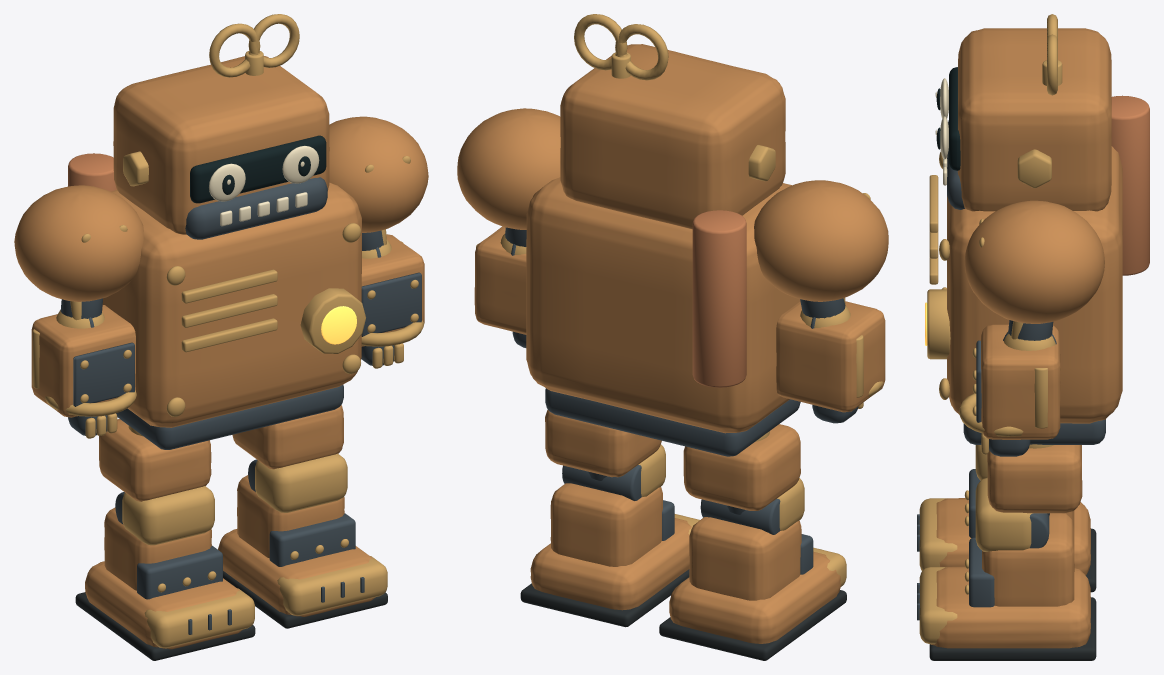
File: scrapyard_bruiser.t1.glb
3 views of the same model, side by side, from view 1: azimuth 30°, elevation 25°; view 2: azimuth 150°, elevation 25°; view 3: azimuth 270°, elevation 25° (orthographic). The views are drawn at different scales.
Parts seen in each view (by area): view 1: slot_torso__clay_ochre_scrap__clay, slot_head__clay_ochre_scrap__clay, slot_legL__clay_ochre_scrap__clay, slot_legR__clay_ochre_scrap__clay, slot_armL__clay_ochre_scrap__clay, slot_armR__clay_ochre_scrap__clay, slot_legL__worn_warm_brass__protected, slot_legR__worn_warm_brass__protected, slot_torso__worn_warm_brass__protected, armL_elbow__clay_ochre_scrap__clay, slot_torso__forged_bluelead_steel__protected, slot_head__forged_bluelead_steel__protected (+18 smaller); view 2: slot_torso__clay_ochre_scrap__clay, slot_head__clay_ochre_scrap__clay, slot_legL__clay_ochre_scrap__clay, slot_legR__clay_ochre_scrap__clay, slot_armL__clay_ochre_scrap__clay, slot_torso__burnished_copper__protected, slot_armR__clay_ochre_scrap__clay, armL_elbow__clay_ochre_scrap__clay, slot_torso__forged_bluelead_steel__protected, armR_elbow__clay_ochre_scrap__clay, slot_head__worn_warm_brass__protected, slot_legL__charcoal_rubber__protected (+6 smaller); view 3: slot_head__clay_ochre_scrap__clay, slot_legR__clay_ochre_scrap__clay, slot_torso__clay_ochre_scrap__clay, slot_armR__clay_ochre_scrap__clay, armR_elbow__clay_ochre_scrap__clay, slot_torso__burnished_copper__protected, slot_legR__worn_warm_brass__protected, slot_torso__worn_warm_brass__protected, slot_legL__clay_ochre_scrap__clay, slot_legR__charcoal_rubber__protected, slot_head__worn_warm_brass__protected, slot_legR__forged_bluelead_steel__protected (+12 smaller).
Boxes of the visible parts, x1=… form: slot_torso__clay_ochre_scrap__clay: x1=102, y1=182, x2=361, y2=427; slot_head__clay_ochre_scrap__clay: x1=113, y1=56, x2=329, y2=234; slot_legL__clay_ochre_scrap__clay: x1=85, y1=419, x2=242, y2=649; slot_legR__clay_ochre_scrap__clay: x1=218, y1=405, x2=375, y2=616; slot_armL__clay_ochre_scrap__clay: x1=14, y1=185, x2=143, y2=301; slot_armR__clay_ochre_scrap__clay: x1=329, y1=116, x2=428, y2=232; slot_legL__worn_warm_brass__protected: x1=122, y1=426, x2=254, y2=648; slot_legR__worn_warm_brass__protected: x1=255, y1=453, x2=387, y2=615; slot_torso__worn_warm_brass__protected: x1=166, y1=223, x2=365, y2=416; armL_elbow__clay_ochre_scrap__clay: x1=31, y1=305, x2=135, y2=417; slot_torso__forged_bluelead_steel__protected: x1=116, y1=385, x2=343, y2=449; slot_head__forged_bluelead_steel__protected: x1=185, y1=177, x2=327, y2=239; slot_torso__clay_ochre_scrap__clay: x1=526, y1=177, x2=800, y2=433; slot_head__clay_ochre_scrap__clay: x1=560, y1=44, x2=785, y2=229; slot_legL__clay_ochre_scrap__clay: x1=669, y1=424, x2=841, y2=643; slot_legR__clay_ochre_scrap__clay: x1=530, y1=410, x2=691, y2=610; slot_armL__clay_ochre_scrap__clay: x1=754, y1=180, x2=888, y2=301; slot_torso__burnished_copper__protected: x1=692, y1=210, x2=746, y2=387; slot_armR__clay_ochre_scrap__clay: x1=457, y1=108, x2=560, y2=229; armL_elbow__clay_ochre_scrap__clay: x1=776, y1=301, x2=885, y2=412; slot_torso__forged_bluelead_steel__protected: x1=545, y1=388, x2=800, y2=456; armR_elbow__clay_ochre_scrap__clay: x1=474, y1=226, x2=526, y2=334; slot_head__worn_warm_brass__protected: x1=574, y1=14, x2=775, y2=181; slot_legL__charcoal_rubber__protected: x1=659, y1=590, x2=846, y2=660; slot_head__clay_ochre_scrap__clay: x1=957, y1=28, x2=1111, y2=211; slot_legR__clay_ochre_scrap__clay: x1=931, y1=445, x2=1090, y2=648; slot_torso__clay_ochre_scrap__clay: x1=947, y1=146, x2=1122, y2=423; slot_armR__clay_ochre_scrap__clay: x1=964, y1=200, x2=1104, y2=323; armR_elbow__clay_ochre_scrap__clay: x1=981, y1=324, x2=1060, y2=439; slot_torso__burnished_copper__protected: x1=1111, y1=95, x2=1149, y2=275; slot_legR__worn_warm_brass__protected: x1=919, y1=444, x2=1053, y2=644; slot_torso__worn_warm_brass__protected: x1=927, y1=151, x2=950, y2=399; slot_legL__clay_ochre_scrap__clay: x1=936, y1=498, x2=1090, y2=575; slot_legR__charcoal_rubber__protected: x1=929, y1=597, x2=1096, y2=660; slot_head__worn_warm_brass__protected: x1=1017, y1=14, x2=1062, y2=188; slot_legR__forged_bluelead_steel__protected: x1=917, y1=513, x2=1049, y2=620.
Size of the model in its own units: 1.75 by 2.37 by 0.839.
